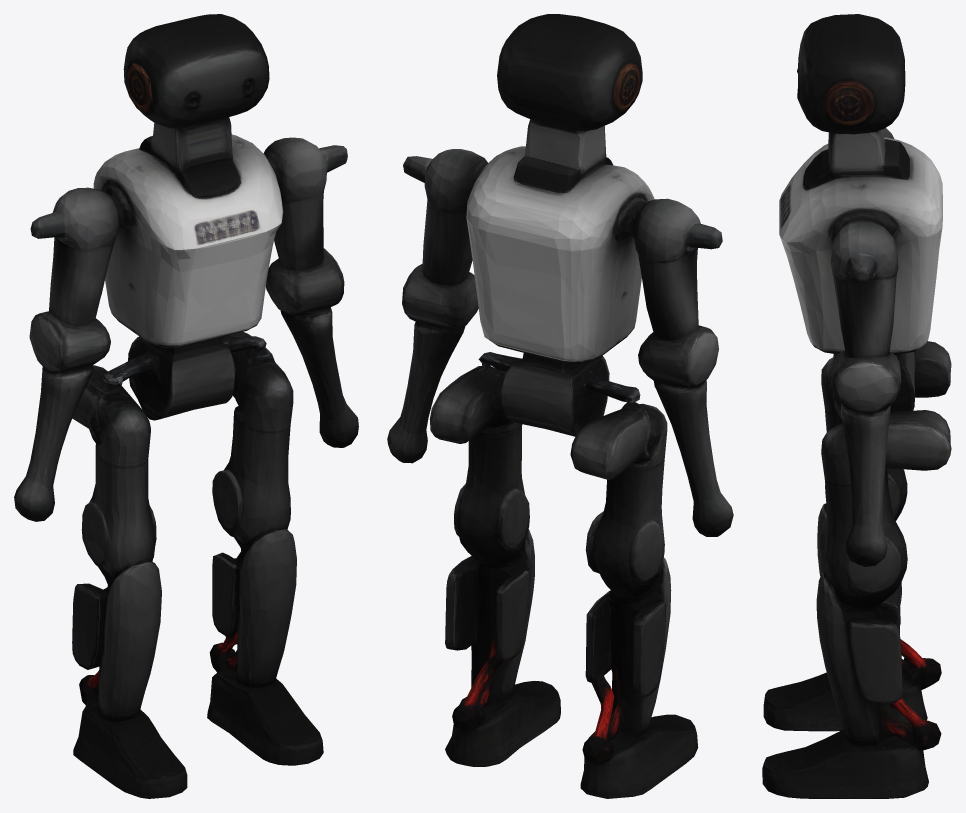
The picture shows the model from 3 angles, left to right: view 1: azimuth 30°, elevation 25°; view 2: azimuth 150°, elevation 25°; view 3: azimuth 270°, elevation 25°; orthographic projection.
Visible parts, largest first — view 1: world; view 2: world; view 3: world.
Boxes of the visible parts, x1,y1,x2,y2 form: world: (14, 14, 358, 798); world: (387, 14, 733, 798); world: (762, 14, 951, 798).
Bounding box in the file's own units: 49.22 × 100 × 23.78.
